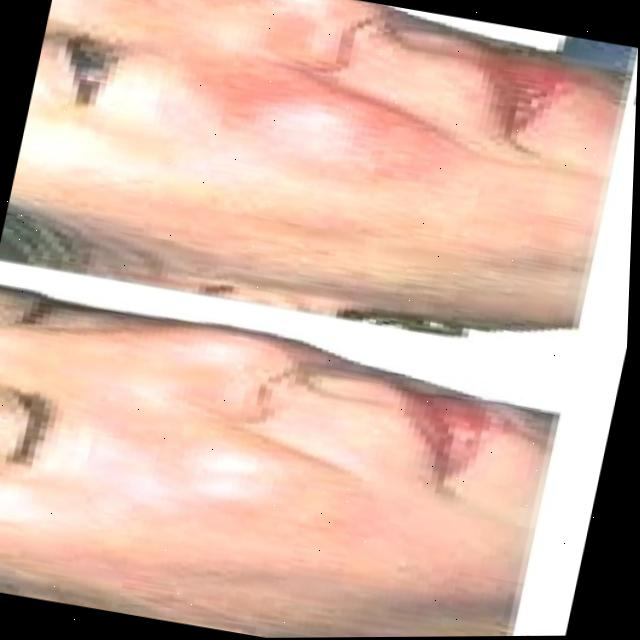Rosacea: (164, 61, 427, 201)
